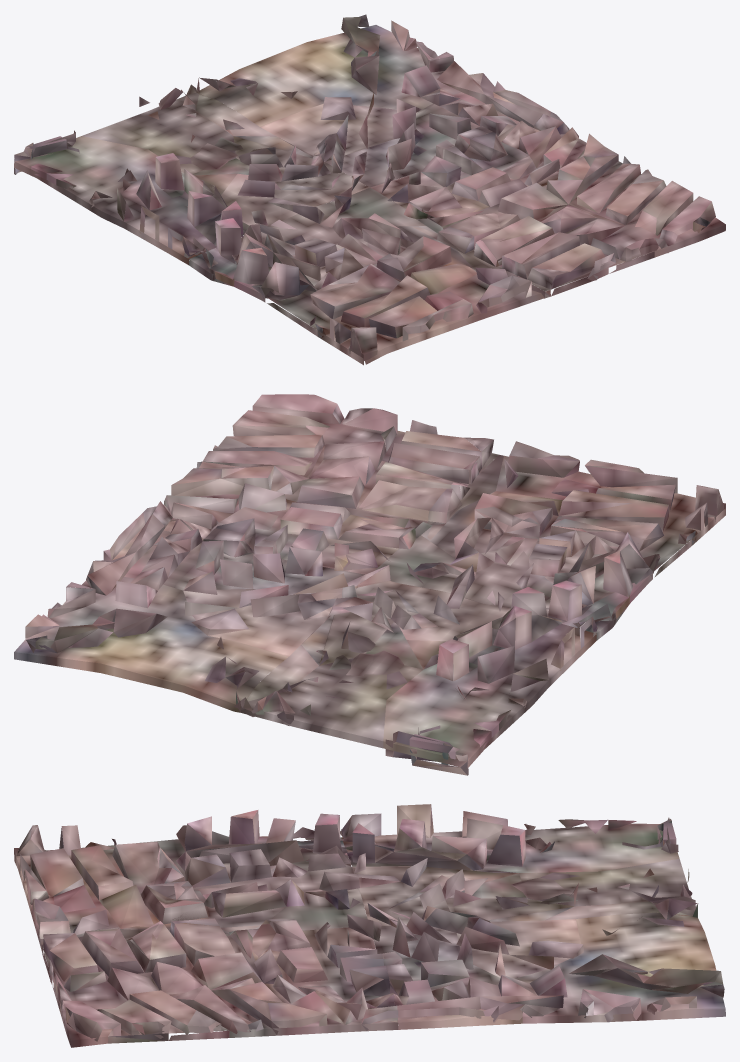
3 renders of one model, top to bottom at view 1: azimuth 30°, elevation 25°; view 2: azimuth 150°, elevation 25°; view 3: azimuth 270°, elevation 25°, orthographic. The views are drawn at different scales.
Visible parts, largest first — view 1: Mesh_0; view 2: Mesh_0; view 3: Mesh_0.
Boxes of the visible parts, <box> form: Mesh_0: <box>14,14,725,365</box>; Mesh_0: <box>14,394,725,775</box>; Mesh_0: <box>14,804,725,1047</box>.
Size of the model in its own units: 532 by 64.18 by 659.
2 materials, 2 textured.
